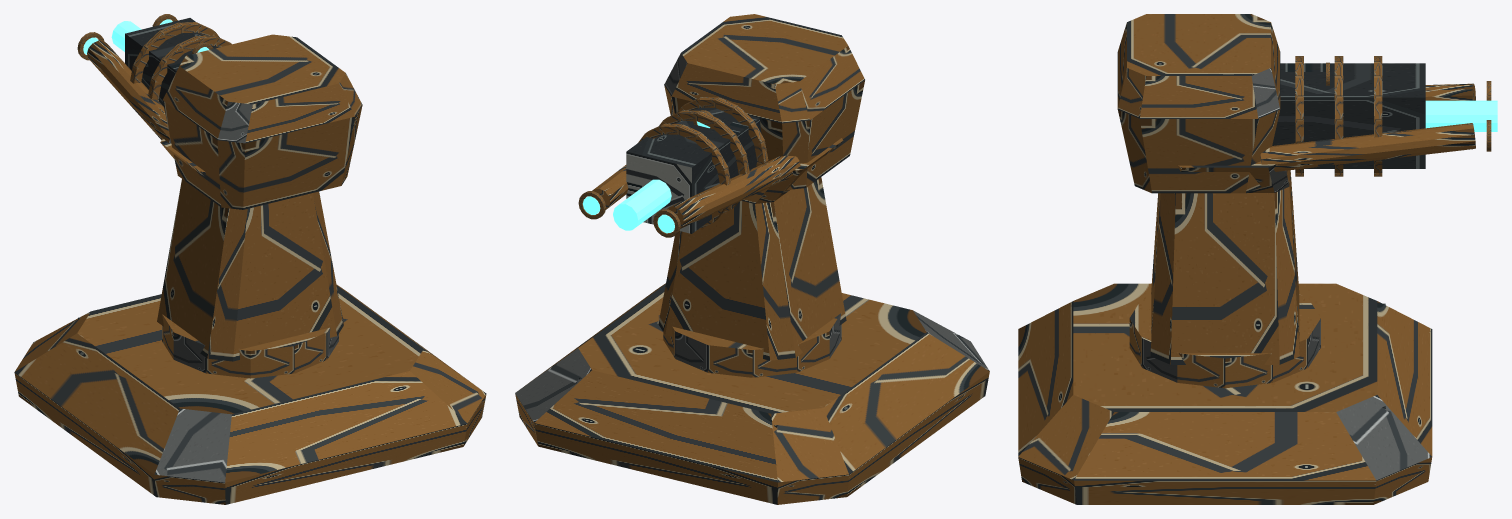
File: fixed_elf.glb
The picture shows the model from 3 angles, left to right: view 1: azimuth 30°, elevation 25°; view 2: azimuth 150°, elevation 25°; view 3: azimuth 270°, elevation 25°; orthographic projection. The views are drawn at different scales.
Parts seen in each view (by area): view 1: STProp_fixed_elf_Body, STProp_fixed_elf_HeadMesh; view 2: STProp_fixed_elf_Body, STProp_fixed_elf_HeadMesh; view 3: STProp_fixed_elf_Body, STProp_fixed_elf_HeadMesh.
Boxes of the visible parts, <box> form: STProp_fixed_elf_Body: <box>14,138,486,504</box>; STProp_fixed_elf_HeadMesh: <box>77,14,362,209</box>; STProp_fixed_elf_Body: <box>515,138,989,504</box>; STProp_fixed_elf_HeadMesh: <box>578,14,864,237</box>; STProp_fixed_elf_Body: <box>1018,161,1432,504</box>; STProp_fixed_elf_HeadMesh: <box>1117,14,1497,193</box>.
Bounding box in the file's own units: 3.16 × 3.15 × 3.66.
Materials: 5 (4 with a texture image).
